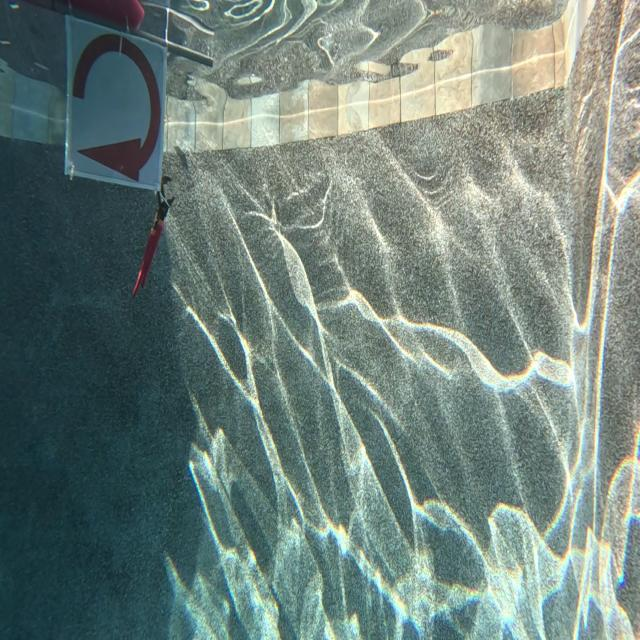red_side: (65, 15, 165, 183)
